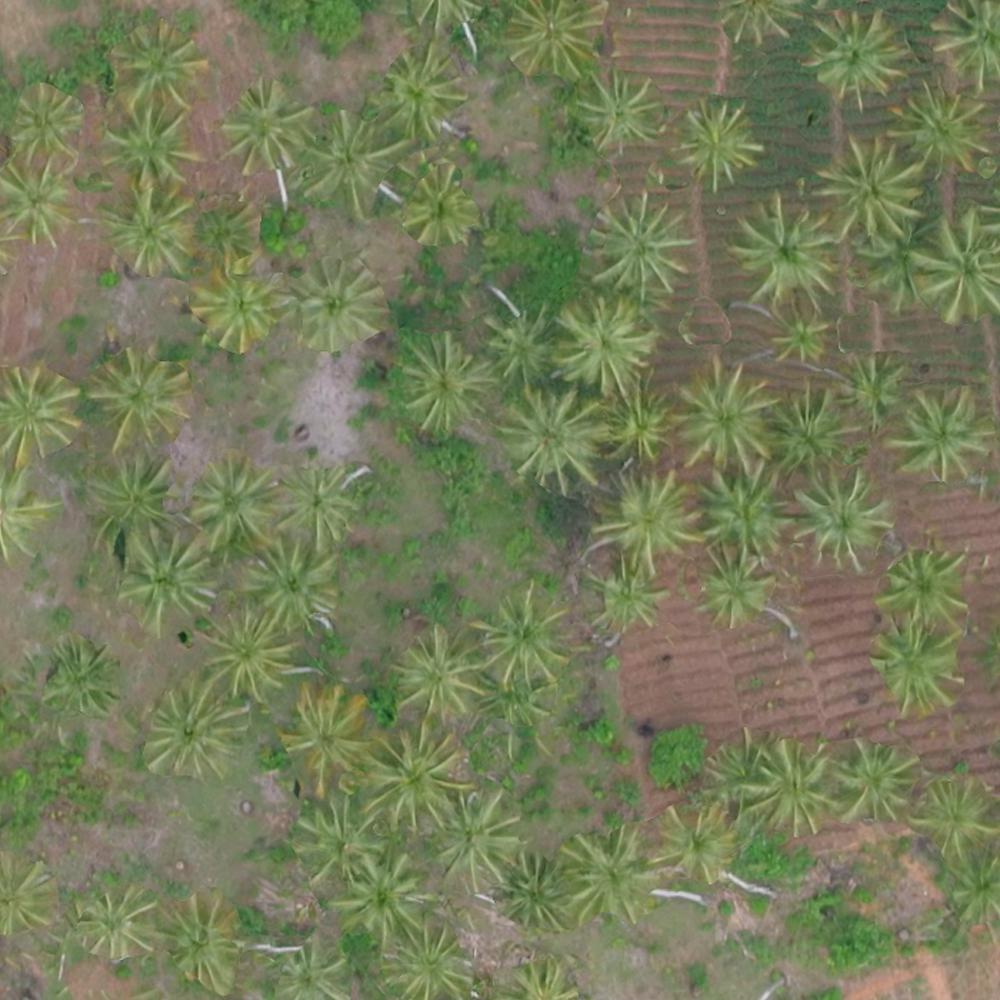Palm: (587, 197, 695, 302), (304, 110, 398, 222), (819, 139, 922, 240), (505, 388, 600, 492), (677, 367, 775, 466), (553, 294, 651, 392), (733, 201, 832, 296), (93, 348, 187, 448), (370, 727, 464, 827), (894, 83, 992, 176), (426, 792, 519, 890), (593, 475, 696, 562), (395, 340, 493, 430), (286, 688, 374, 788), (792, 472, 884, 567), (479, 588, 569, 683), (563, 833, 660, 921), (914, 216, 996, 319), (810, 12, 905, 100), (80, 456, 177, 542), (747, 740, 837, 832), (107, 107, 203, 193), (248, 544, 336, 636), (501, 2, 599, 84), (120, 541, 211, 629), (205, 611, 296, 699), (337, 852, 427, 940), (894, 390, 986, 476), (375, 51, 464, 139), (111, 25, 203, 110), (695, 471, 785, 557), (143, 694, 235, 778), (188, 459, 275, 547), (100, 191, 190, 276), (870, 627, 963, 709), (225, 85, 312, 172), (155, 894, 243, 979), (295, 258, 377, 349), (395, 631, 482, 716), (3, 361, 79, 458), (879, 546, 969, 626), (379, 924, 473, 1000), (916, 769, 1000, 852), (194, 267, 276, 352), (694, 547, 782, 626), (676, 100, 760, 182), (70, 886, 157, 965), (578, 69, 663, 149), (276, 461, 361, 539), (293, 805, 379, 881), (397, 167, 478, 245), (500, 854, 577, 936), (1, 162, 75, 247), (841, 742, 918, 821), (931, 1, 1000, 89), (772, 391, 844, 472), (659, 807, 741, 876), (44, 640, 119, 714), (10, 84, 79, 160), (479, 311, 555, 377), (603, 388, 674, 458), (836, 351, 908, 419), (268, 938, 345, 1000), (591, 566, 663, 629), (765, 311, 833, 368)
